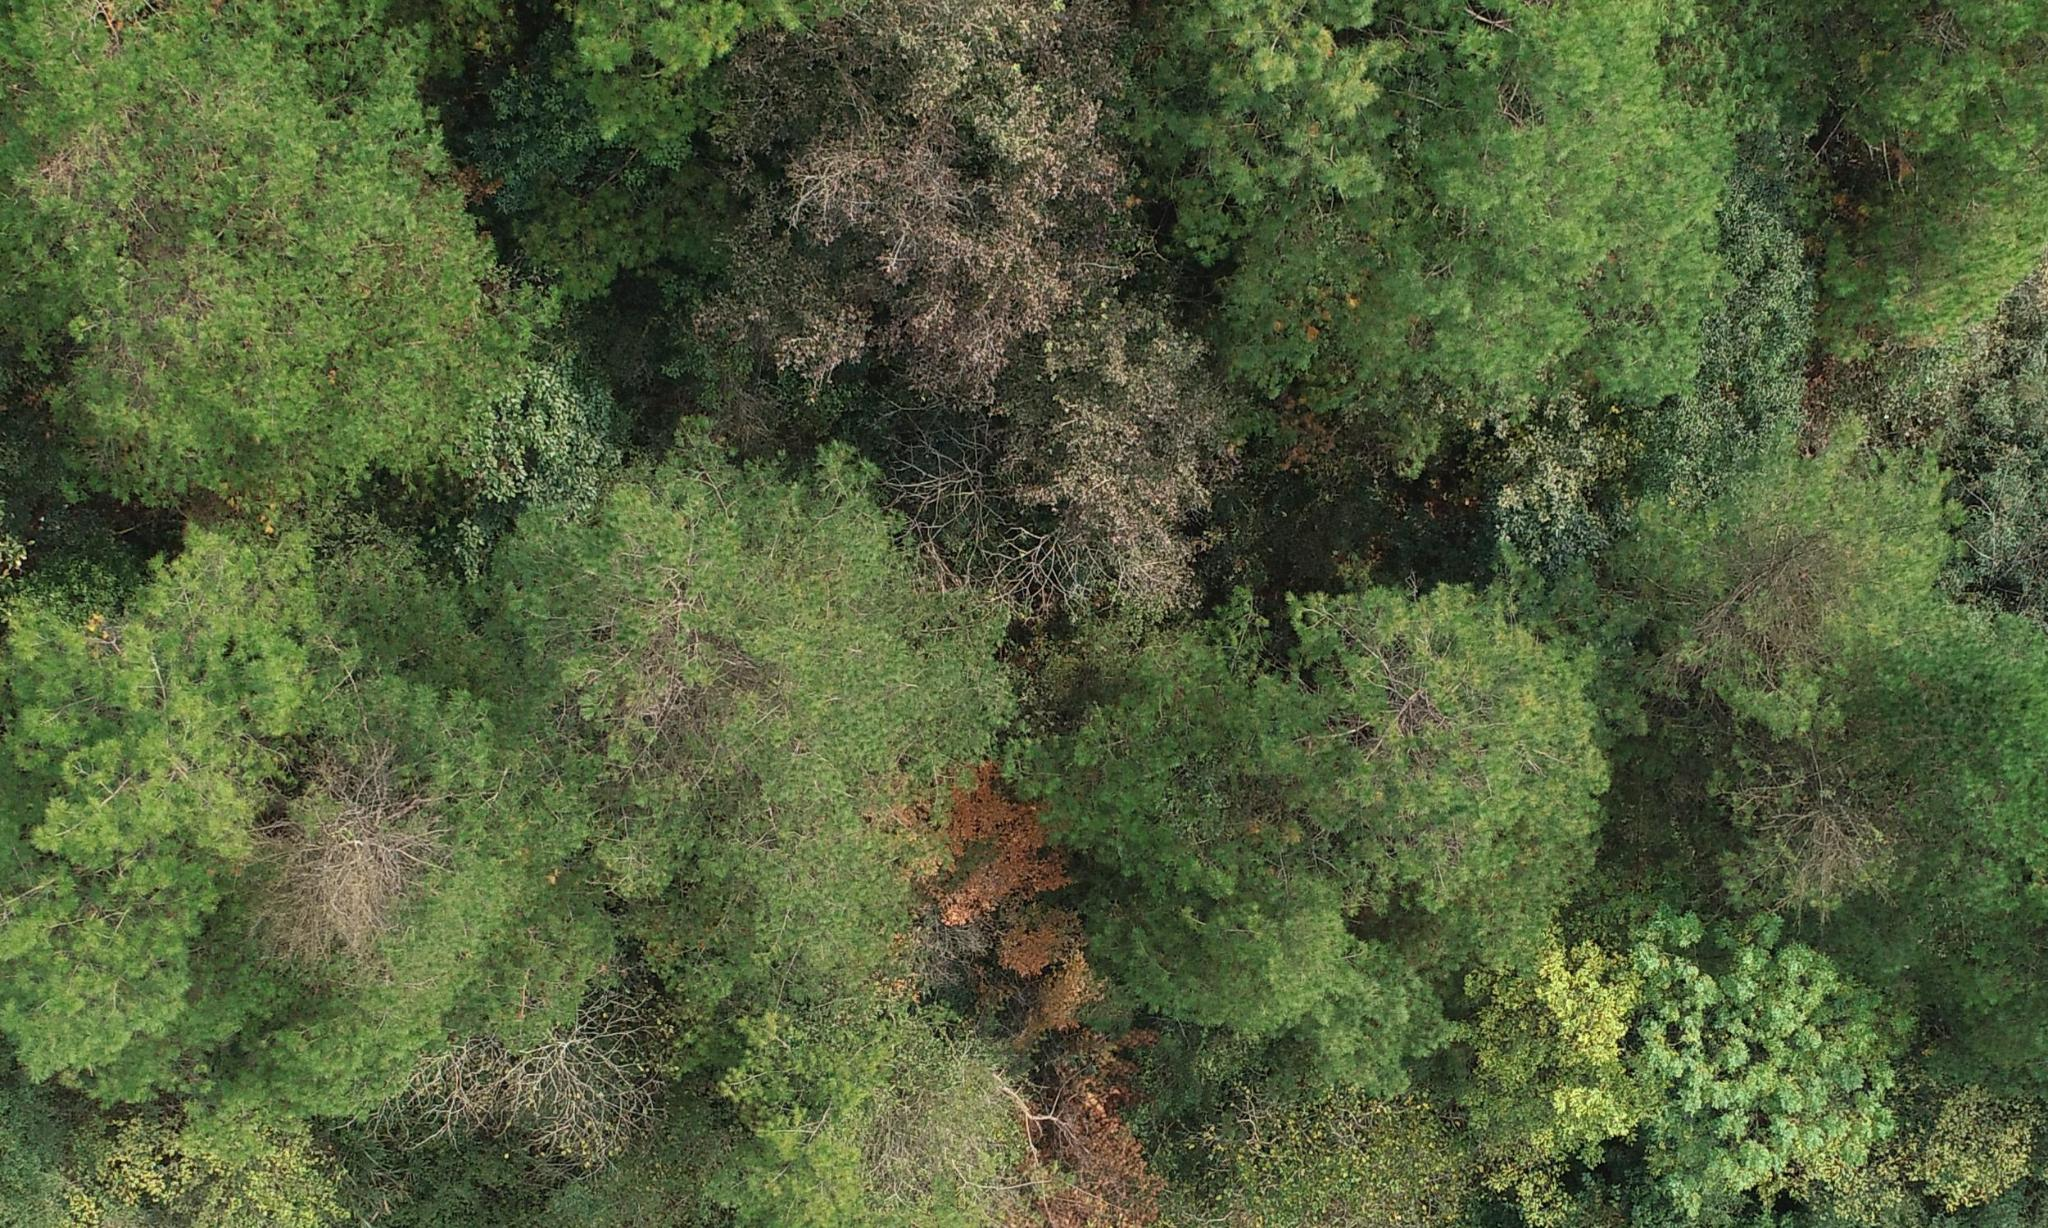heavy: (855, 743, 1191, 1228)
